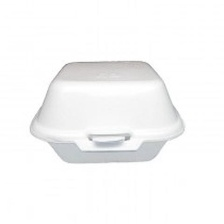foam_box: (23, 51, 190, 169)
